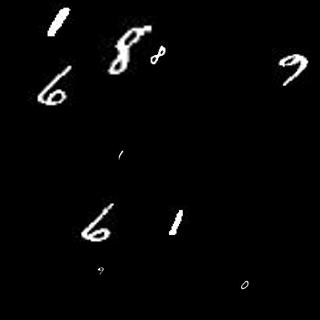eight: (105, 22, 149, 76), (149, 42, 168, 67)
nine: (274, 52, 307, 89), (97, 266, 108, 277)
one: (45, 7, 71, 40), (168, 205, 182, 235), (117, 147, 126, 161)
six: (35, 59, 73, 108), (80, 202, 118, 243)
zero: (239, 279, 252, 291)
